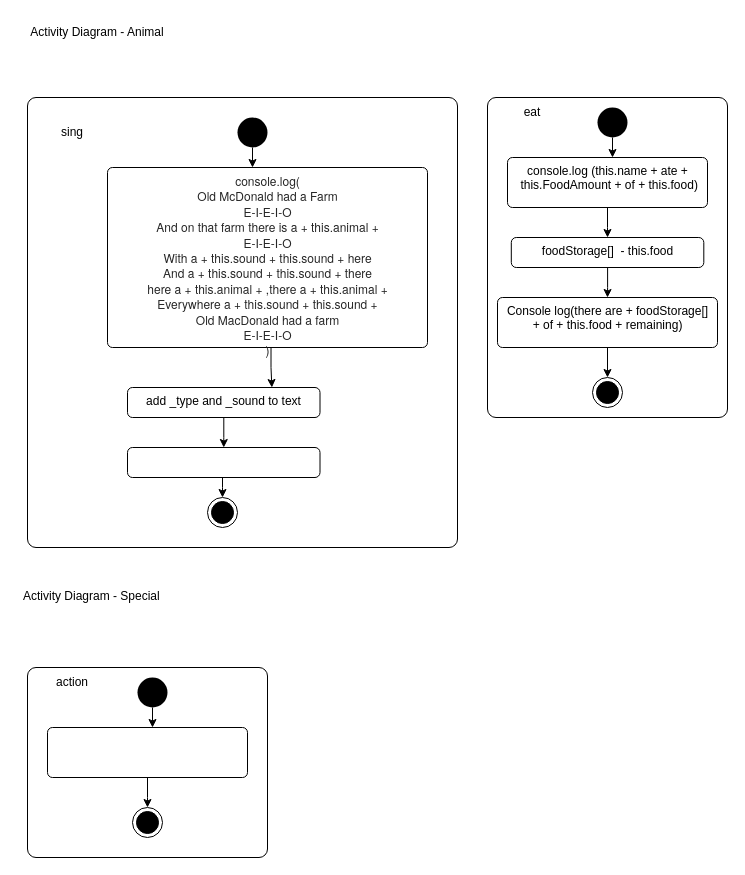
The diagram is 745 pixels wide and 875 high, and some of its shapes have lost their labels. Here are the shapes that lost their labels. From the top down, the centre of each, then its label:
the point at 223,462: Console log
the point at 147,752: console.log (this.name + is able to + this.ablity + this.thing)
